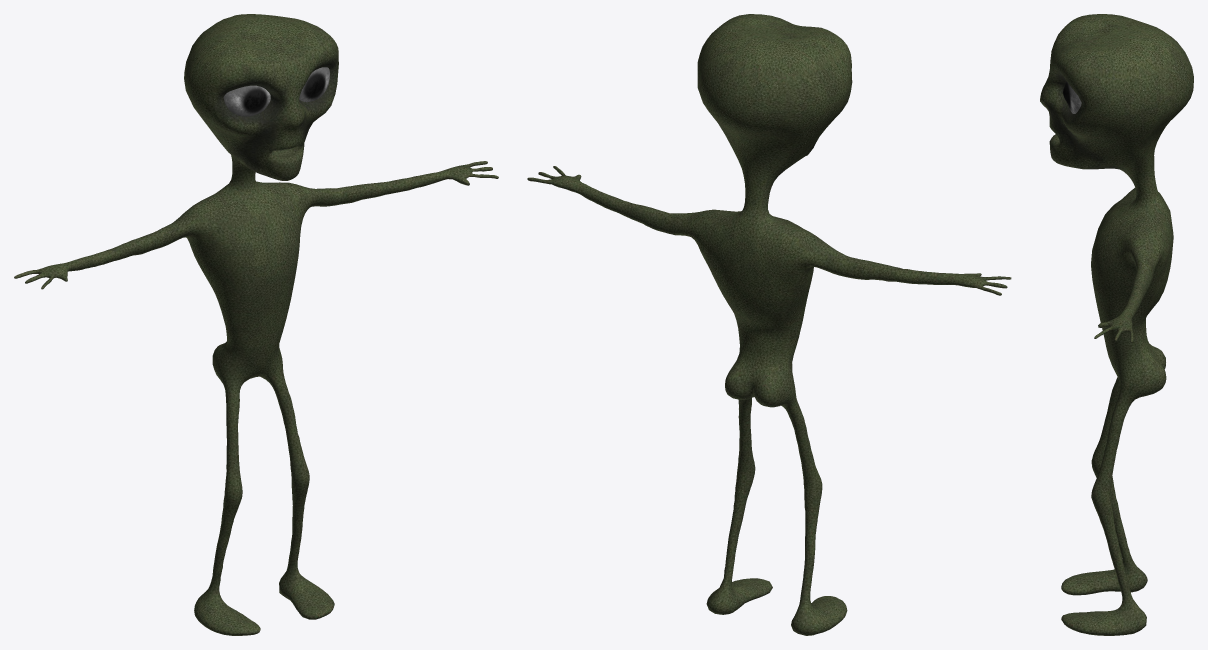
3 views of the same model, side by side, from view 1: azimuth 30°, elevation 25°; view 2: azimuth 150°, elevation 25°; view 3: azimuth 270°, elevation 25° (orthographic).
Parts seen in each view (by area): view 1: ET_High001, Eyes_High001; view 2: ET_High001; view 3: ET_High001, Eyes_High001.
Part boxes in pixels (x1,y1,x2,y2): ET_High001: (14, 14, 498, 635); Eyes_High001: (223, 67, 329, 116); ET_High001: (527, 14, 1011, 635); ET_High001: (1040, 14, 1193, 635); Eyes_High001: (1063, 81, 1081, 113).
Bounding box in the file's own units: 117 × 138 × 33.34.
Materials: 1 (1 with a texture image).
